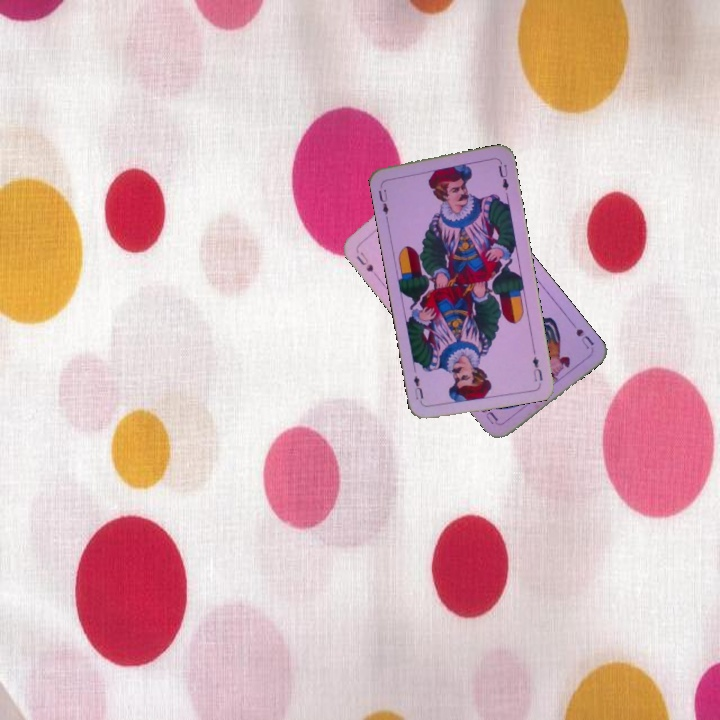EU: (374, 180, 391, 220), (529, 344, 545, 384)
SU: (565, 317, 597, 352), (352, 245, 376, 274)
